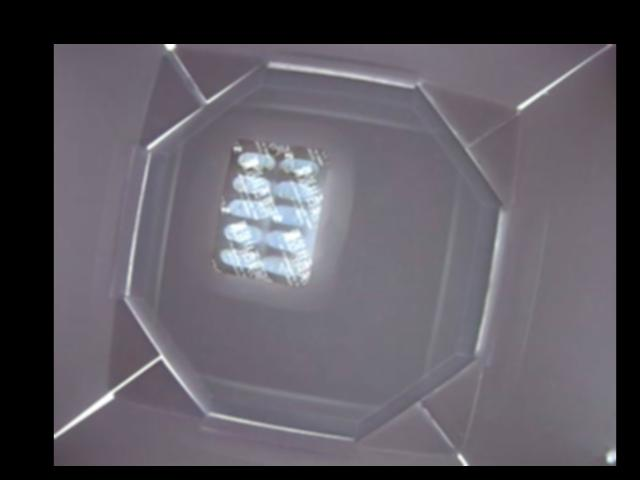Medicine: (209, 138, 329, 286)
